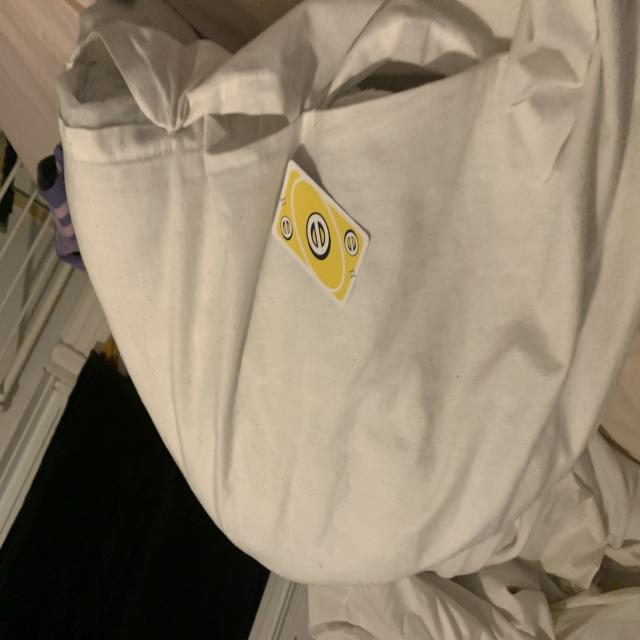lyellowskip-20: (278, 212, 294, 244)
